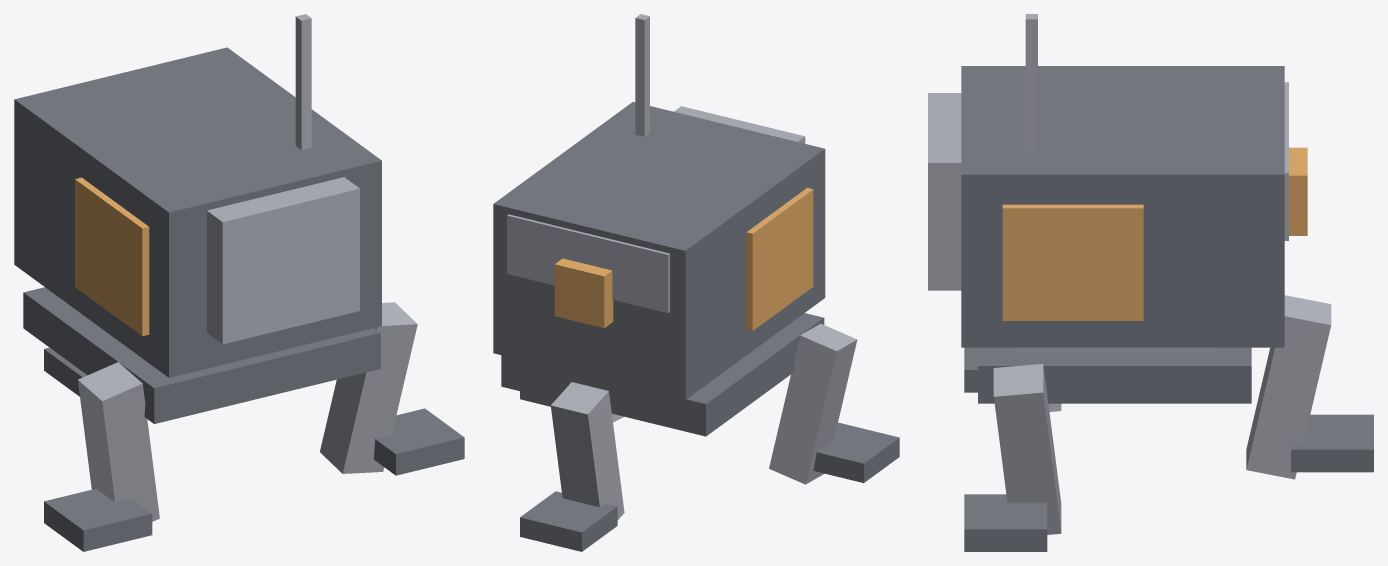
Rendered from turret.glb.
3 views of the same model, side by side, from view 1: azimuth 30°, elevation 25°; view 2: azimuth 150°, elevation 25°; view 3: azimuth 270°, elevation 25° (orthographic). The views are drawn at different scales.
Parts seen in each view (by area): view 1: housing, backpack, baseplate, ventR, leg1, leg2, foot1, foot2, antenna, foot0; view 2: housing, baseplate, brow, leg1, leg0, ventR, foot0, lens, foot1, antenna, backpack; view 3: housing, ventL, baseplate, leg0, leg2, backpack, foot2, foot0, antenna, lens, swivel, brow (+1 smaller).
Part boxes in pixels (x1,y1,x2,y2): housing: (14, 47, 381, 377); backpack: (207, 177, 359, 344); baseplate: (23, 287, 380, 423); ventR: (75, 177, 149, 336); leg1: (78, 362, 159, 521); leg2: (320, 302, 417, 473); foot1: (44, 488, 152, 551); foot2: (374, 408, 464, 475); antenna: (295, 14, 311, 150); foot0: (44, 347, 87, 396); housing: (493, 102, 825, 399); baseplate: (501, 313, 824, 436); brow: (507, 214, 669, 312); leg1: (769, 323, 857, 484); leg0: (550, 382, 624, 519); ventR: (746, 188, 813, 330); foot0: (520, 491, 617, 551); lens: (554, 258, 613, 328); foot1: (813, 422, 899, 482); antenna: (635, 14, 649, 136); backpack: (674, 106, 805, 143); housing: (961, 66, 1284, 347); ventL: (1002, 204, 1143, 320); baseplate: (978, 347, 1251, 403); leg0: (1246, 295, 1331, 479); leg2: (993, 364, 1061, 534); backpack: (928, 93, 961, 290); foot2: (964, 494, 1047, 551); foot0: (1291, 414, 1373, 472); antenna: (1025, 14, 1037, 154); lens: (1289, 147, 1307, 235); swivel: (1011, 347, 1218, 351); brow: (1284, 82, 1288, 240).
Bounding box in the file's own units: 1.11 × 1.29 × 1.07.
